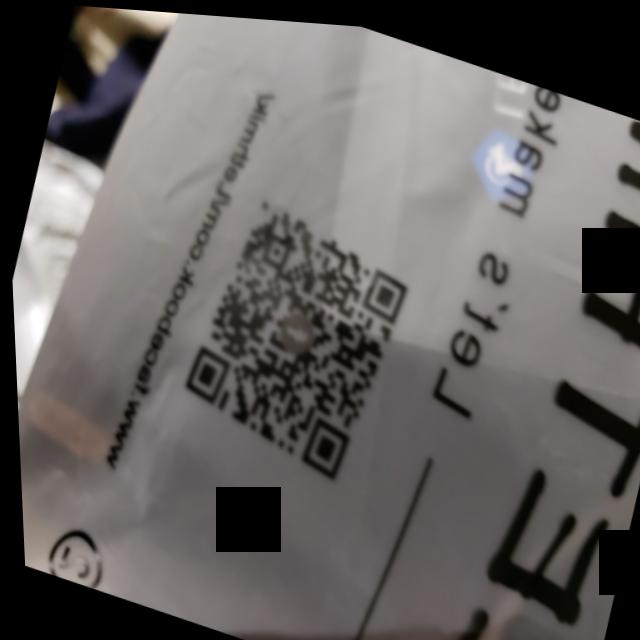QR_CODE: (146, 164, 439, 501)
